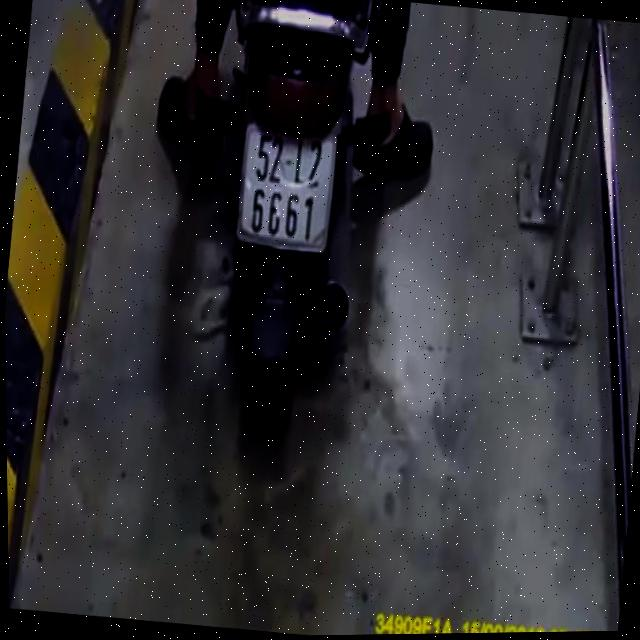motorcycle: (182, 0, 390, 429)
plate: (222, 117, 338, 256)
